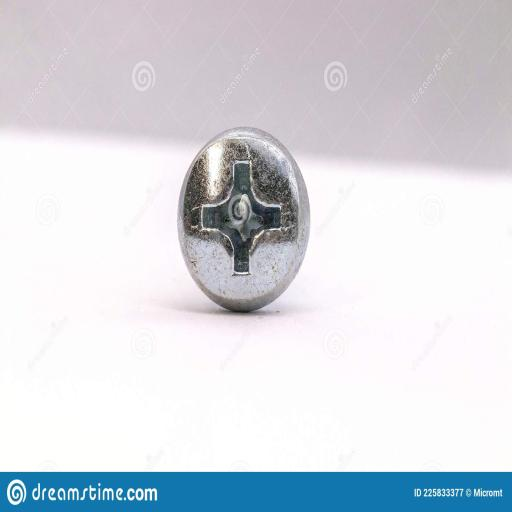Phillips: (177, 122, 309, 310)
